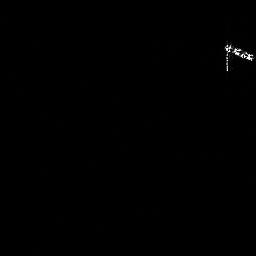ship: (221, 39, 256, 74)
